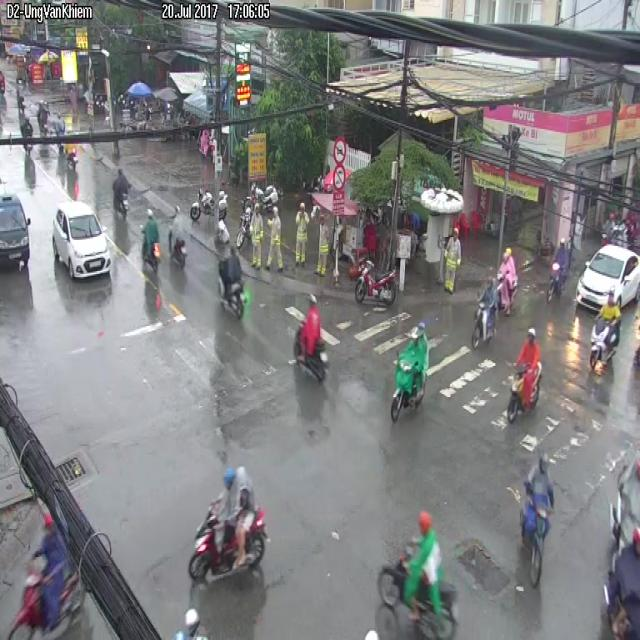car: (356, 259, 397, 305)
traffic-light: (52, 203, 110, 279), (575, 246, 639, 310), (0, 184, 29, 265)
